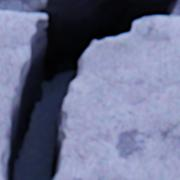broken_brick: (55, 17, 179, 179), (0, 12, 46, 170)
crack: (0, 0, 179, 179)
